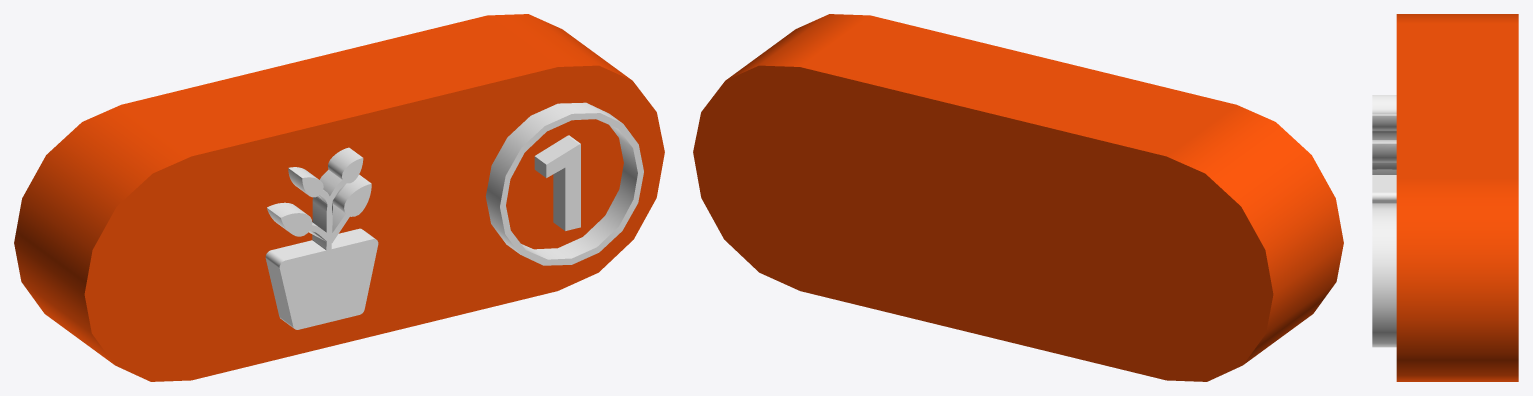
Rendered from Plant_1.fbx.
3 views of the same model, side by side, from view 1: azimuth 30°, elevation 25°; view 2: azimuth 150°, elevation 25°; view 3: azimuth 270°, elevation 25° (orthographic). The views are drawn at different scales.
Visible parts, largest first — view 1: Orange, Object_1, Object_4, Object_15, Object_9, Object_11, Object_8, Object_12, Object_10, Object_14, Object_5; view 2: Orange; view 3: Orange, Object_1, Object_4, Object_9, Object_8, Object_10, Object_5, Object_7, Object_12.
Part boxes in pixels (x1,y1,x2,y2): Orange: [14, 14, 664, 381]; Object_1: [485, 102, 643, 265]; Object_4: [265, 228, 378, 329]; Object_15: [534, 135, 580, 230]; Object_9: [333, 174, 371, 216]; Object_11: [267, 202, 312, 236]; Object_8: [328, 147, 363, 183]; Object_12: [312, 170, 349, 252]; Object_10: [288, 167, 323, 197]; Object_14: [299, 204, 355, 243]; Object_5: [312, 183, 346, 248]; Orange: [693, 14, 1343, 381]; Orange: [1396, 14, 1518, 381]; Object_1: [1372, 203, 1396, 347]; Object_4: [1372, 175, 1396, 203]; Object_9: [1372, 140, 1396, 162]; Object_8: [1372, 113, 1396, 130]; Object_10: [1372, 95, 1396, 112]; Object_5: [1372, 130, 1396, 139]; Object_7: [1372, 162, 1396, 169]; Object_12: [1372, 169, 1396, 174].
Bounding box in the file's own units: 4.75 × 1.2 × 1.75.
